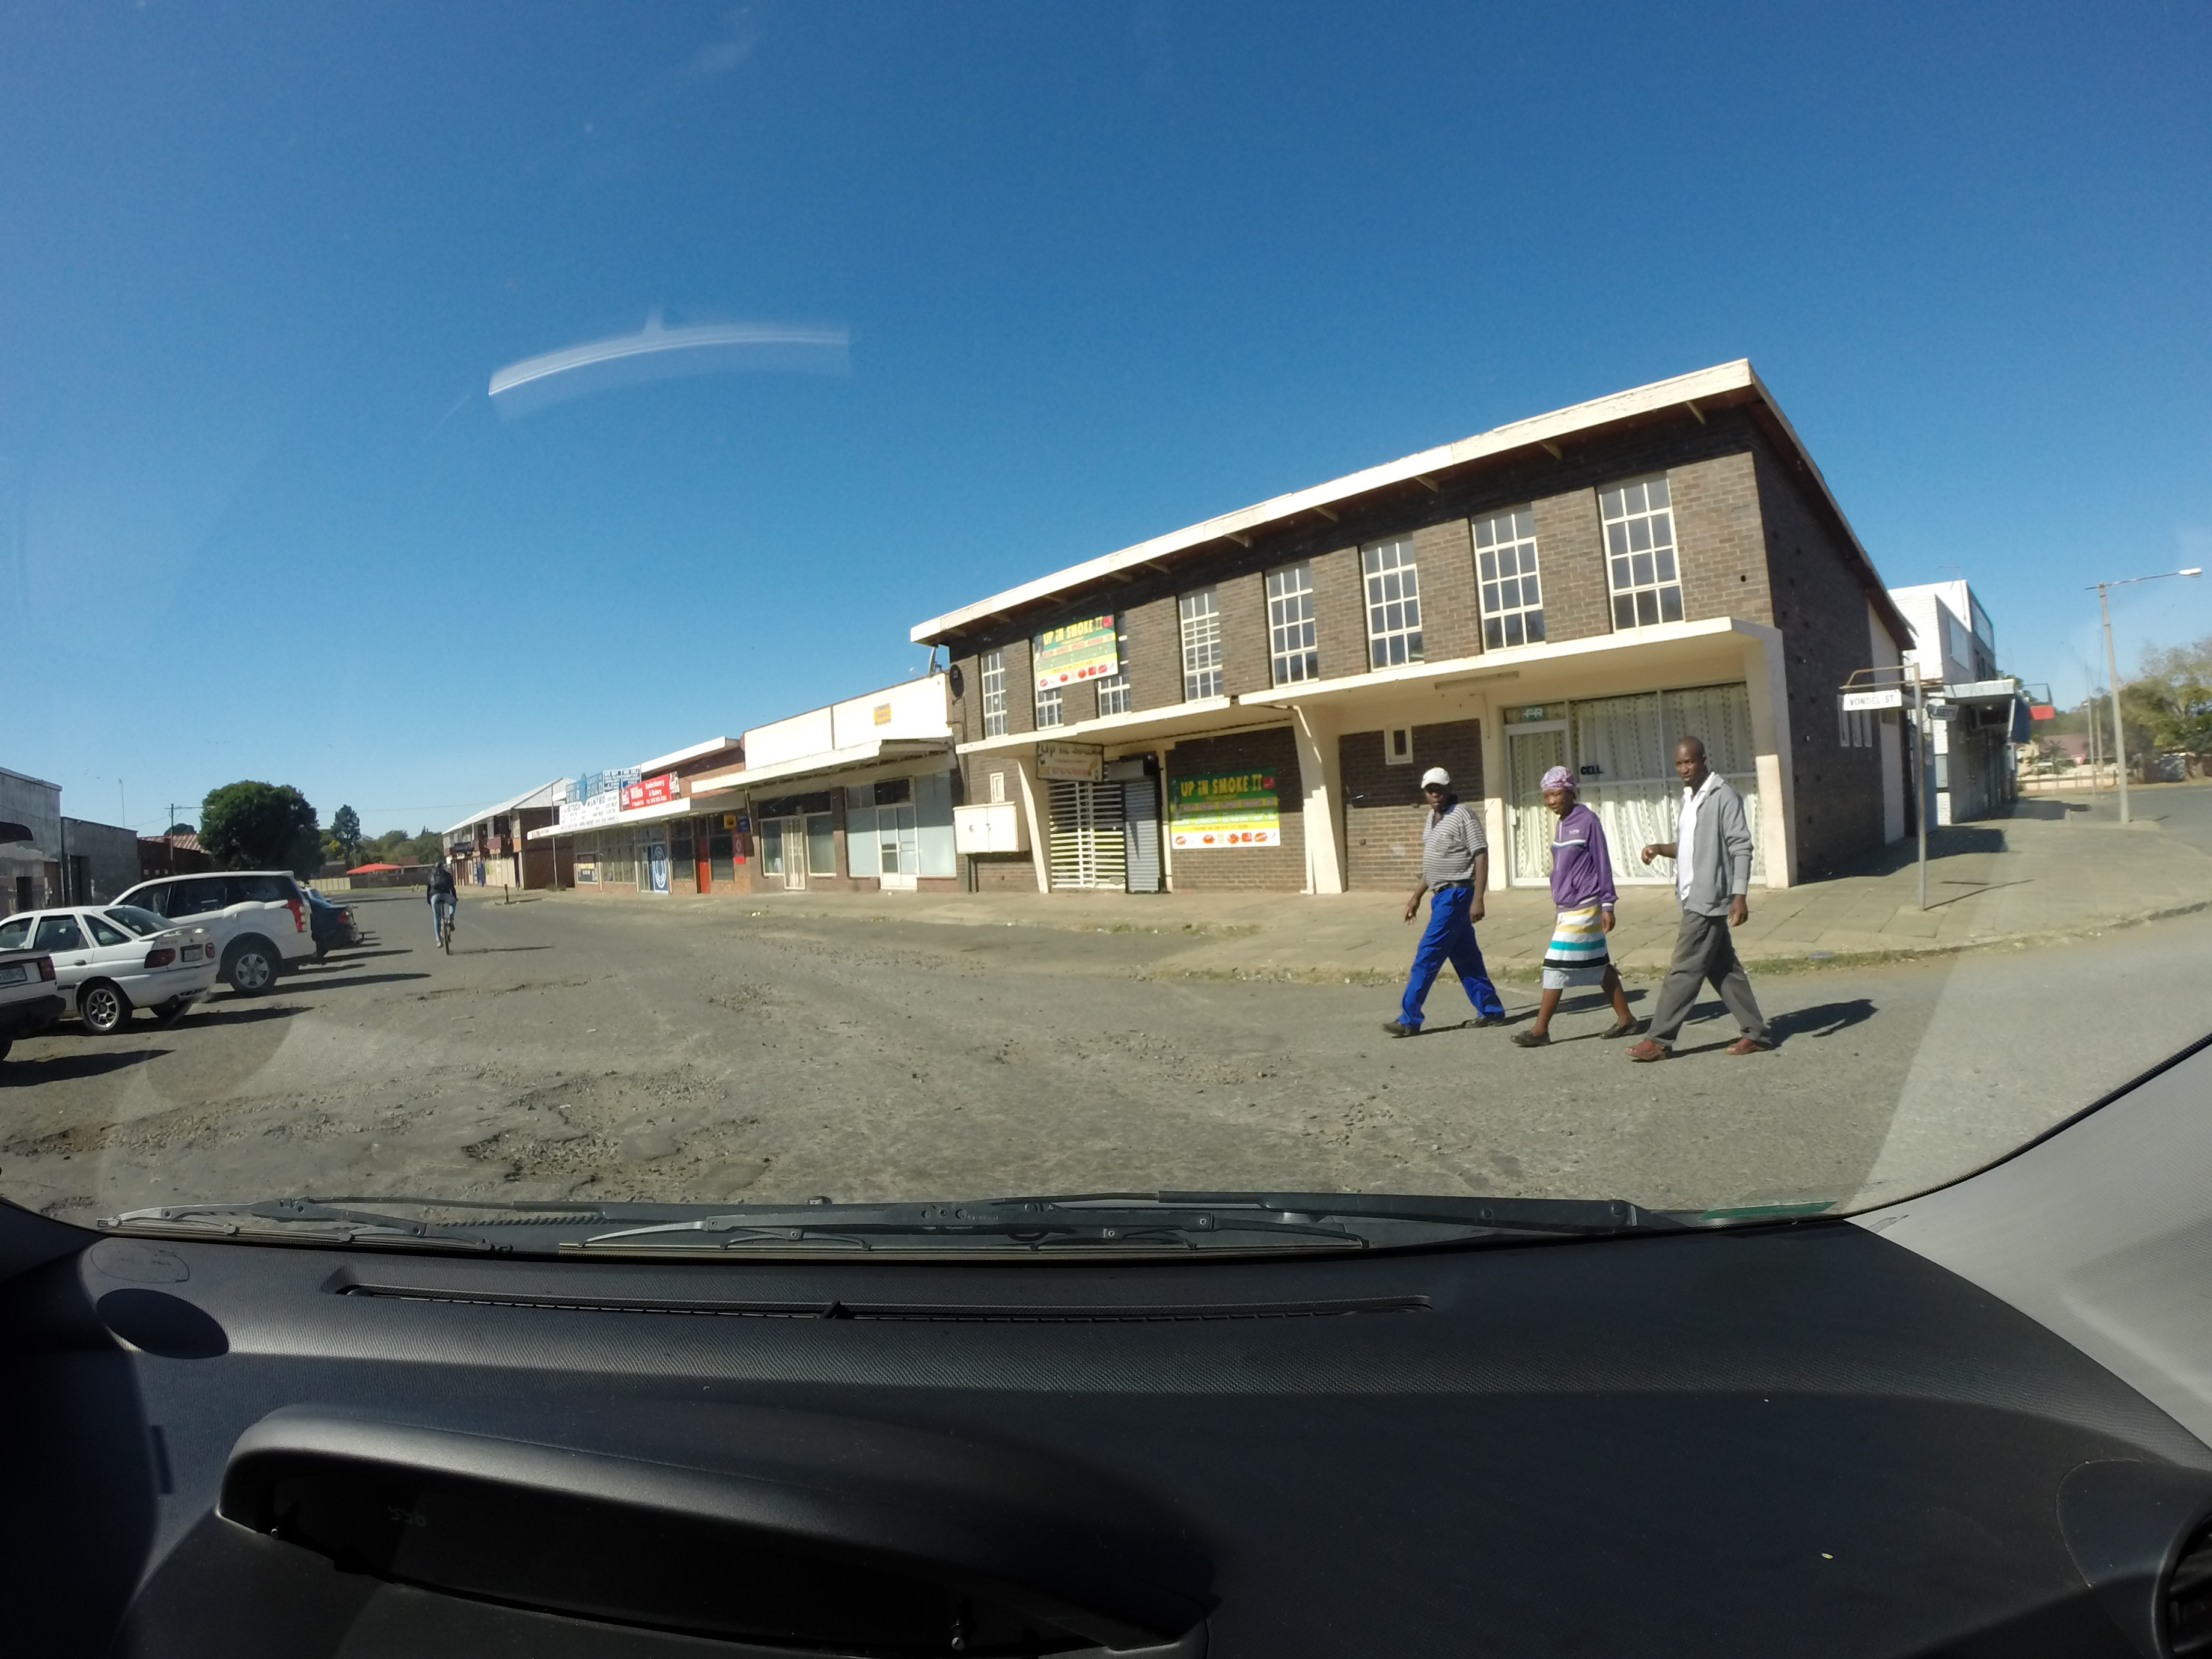pothole: (390, 1033, 756, 1192)
